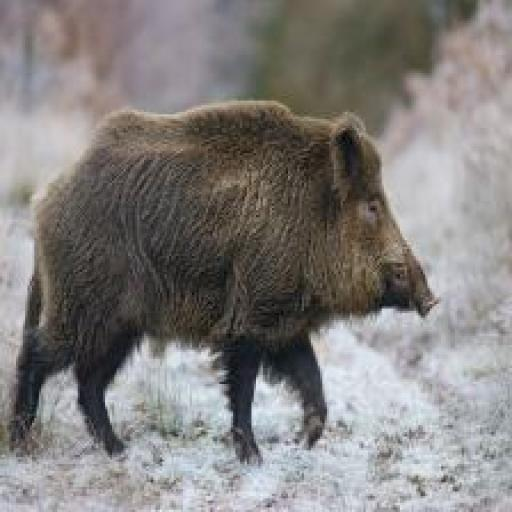Pig: (7, 100, 440, 463)
